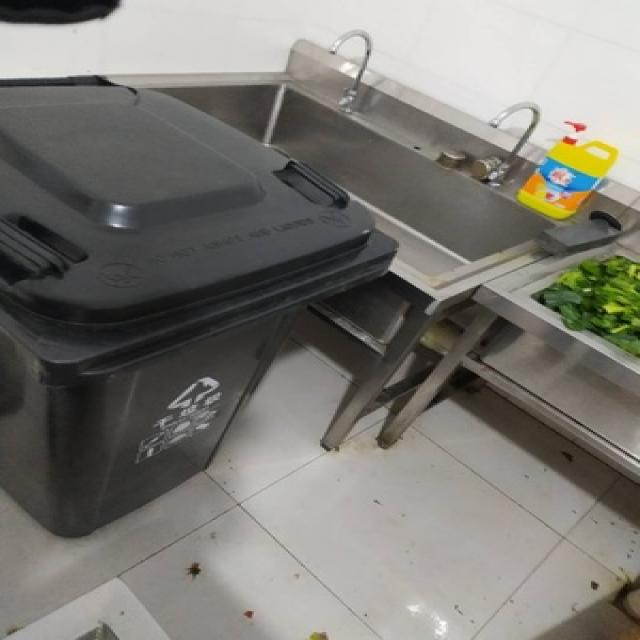ash bin: (0, 74, 401, 538)
